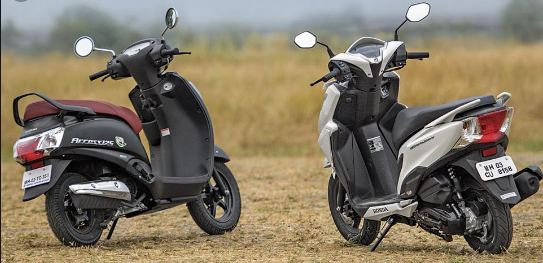bike: (292, 2, 540, 254), (12, 4, 245, 253)
